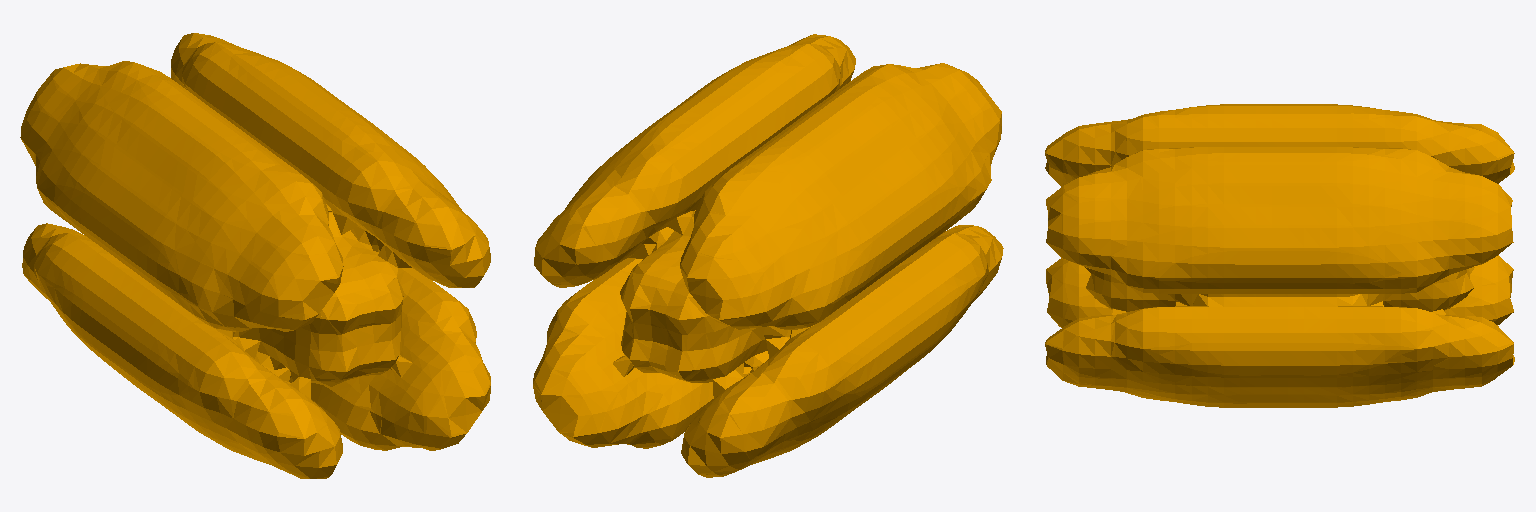
robot.urdf — J17_3:
<?xml version="1.0"?>
<robot name="J17_3">
  <link name="base_link">
    <inertial>
      <mass value="0.07174" />
      <origin xyz="0 0 0" />
      <inertia  ixx="0.0002" ixy="0.0"  ixz="0.0"  iyy="0.0002"  iyz="0.0" izz="0.0002" />
    </inertial>
    <visual>
      <geometry>
        <mesh filename="../../../meshes/egad/train/J17_3.obj" />
      </geometry>
    </visual>
    <collision>
      <geometry>
        <mesh filename="../../../meshes/egad/train/J17_3.obj" />
      </geometry>
    </collision>
  </link>
</robot>

--- Render facts (derived) ---
3 views of the same robot in one strip: view 1: azimuth 30°, elevation 25°; view 2: azimuth 150°, elevation 25°; view 3: azimuth 270°, elevation 25° (orthographic).
Model J17_3 with 1 links and 0 joints (none), rooted at base_link, posed all joints at 0.
Links seen in each view (by area): view 1: base_link; view 2: base_link; view 3: base_link.
Boxes of the visible links, box(x1,y1,x2,y2) form: base_link: box(20, 33, 490, 478); base_link: box(533, 34, 1003, 477); base_link: box(1045, 104, 1514, 407).
Bounding box of the posed robot: 0.0445 × 0.075 × 0.0445 m (x, y, z).
Meshes: 1 distinct files referenced, 1 mesh visuals loaded (1 OBJ).